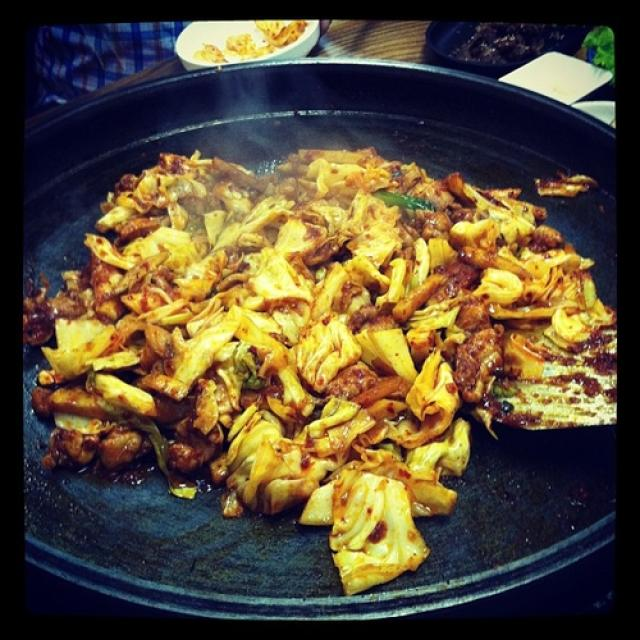鸡肉料理 含炸鸡: (30, 53, 613, 604)
